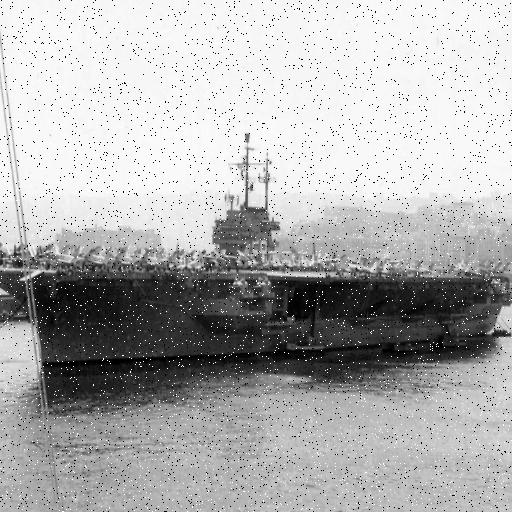Portanaves: (1, 126, 512, 383)
